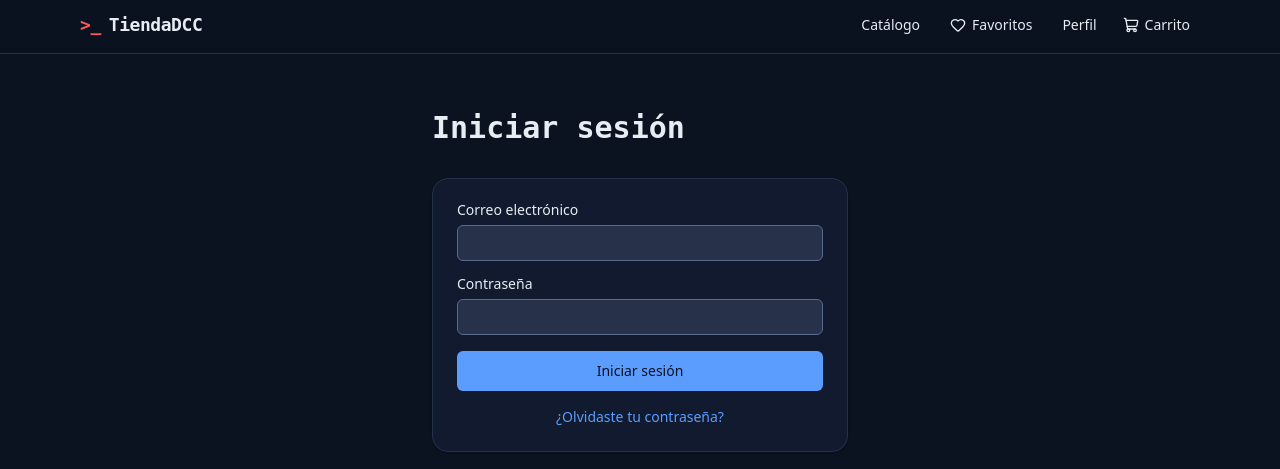
Test case: LoginPage › offers the forgot-password route
What coordinates should you click on to do the following:
click the link "¿Olvidaste tu contraseña?"
I would click on:
 (640, 416)
Its box is [556,407,724,426].
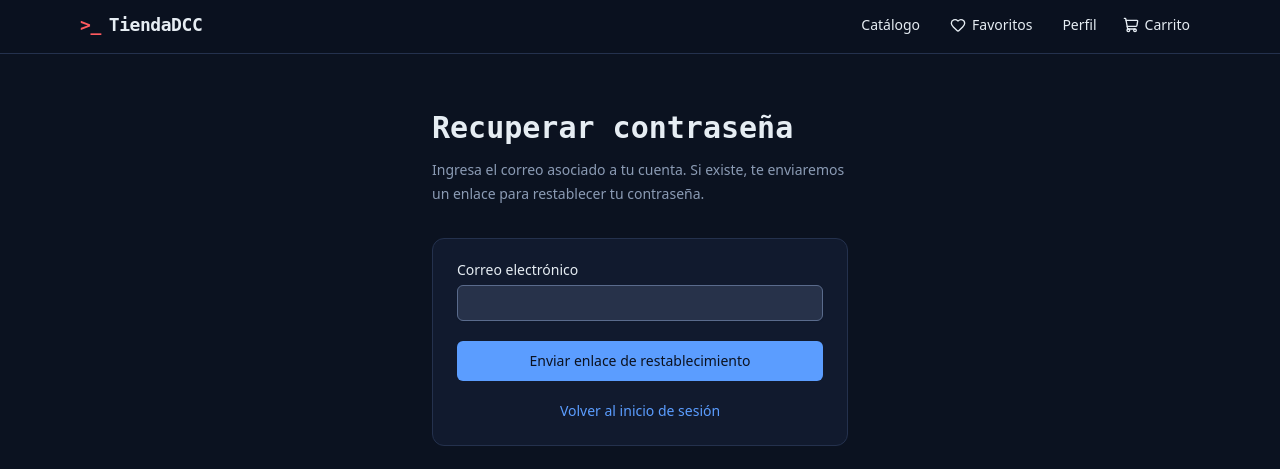
Expected: the field labelled "Correo electrónico" is shown, [457,285,823,321]
Now the heading "Recuperar contraseña" is shown, box [432,110,848,146]
